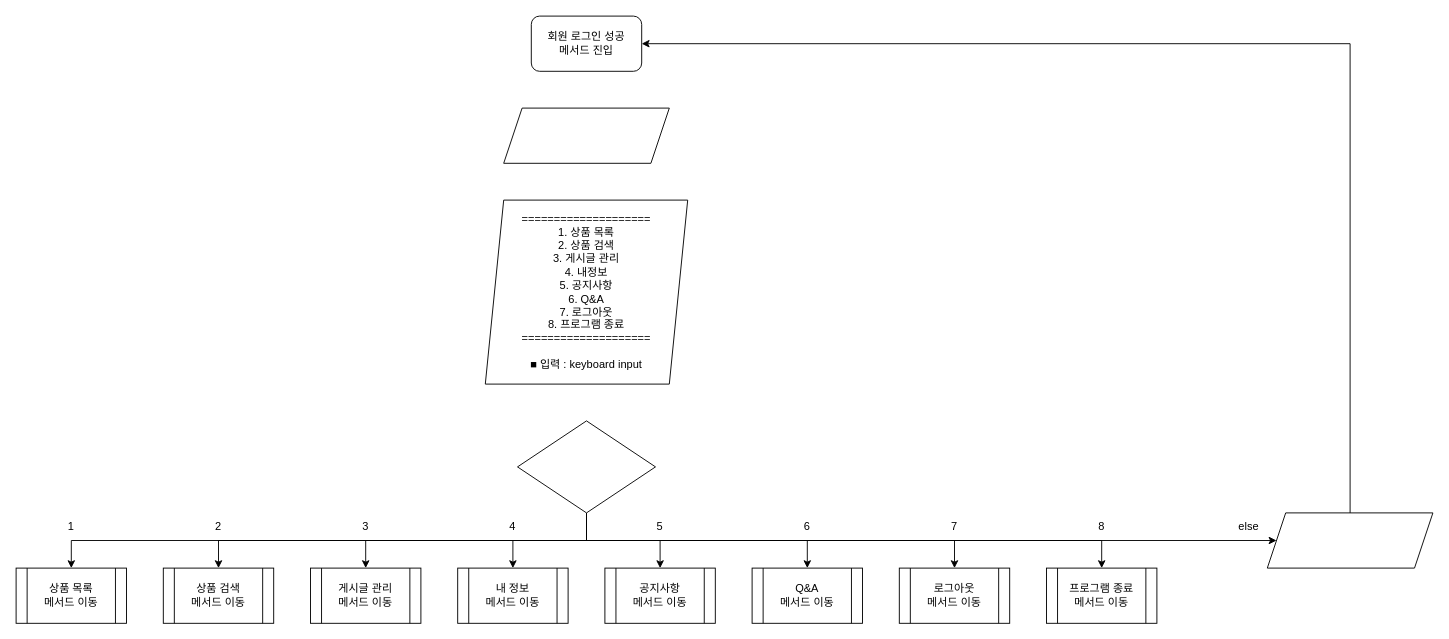
This 1449x639 diagram has some shape labels left out. The shapes that lost their labels are listed below. From the top down, each one's centre as x and y in pixels, then its label:
At (586,135): "(닉네임)님. 안녕하세요!".
At (586,466): "input".
At (1349,540): "잘못 입력하셨습니다. 다시 입력해주세요.".
